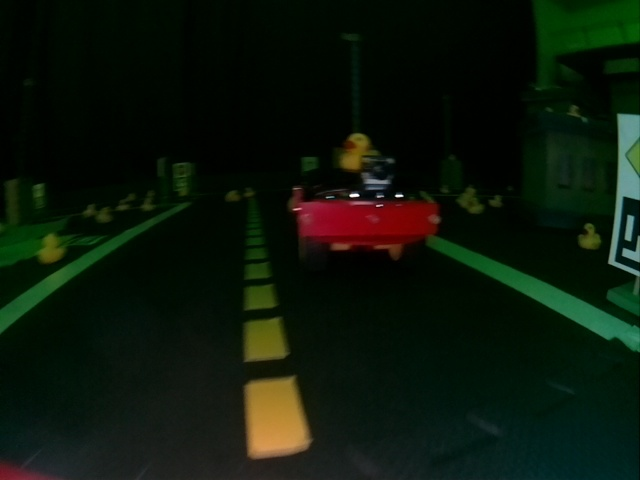Duckie: (339, 135, 376, 170), (578, 223, 602, 250), (42, 235, 64, 262), (470, 199, 482, 213), (226, 191, 238, 201), (491, 197, 502, 207)
Duckiebot: (286, 171, 441, 259)
QR code: (66, 234, 106, 247), (174, 178, 185, 190)
